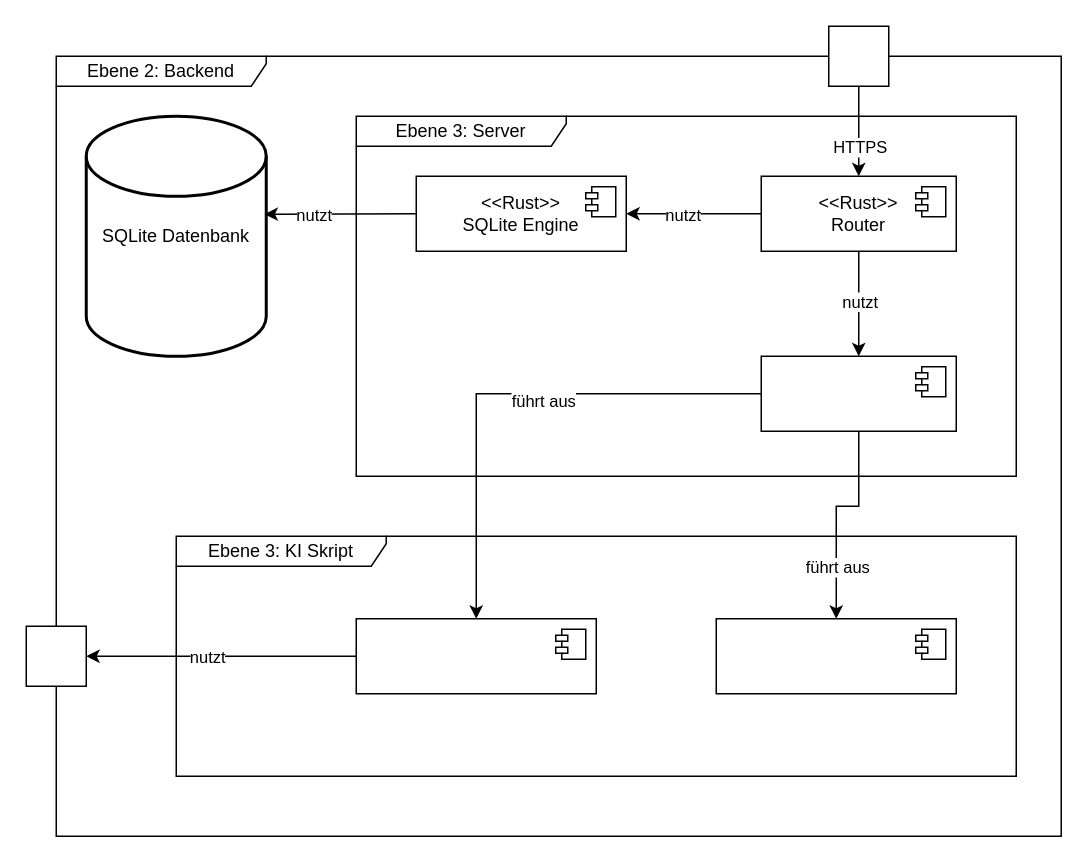
Image size: 1088x863. Some labels were removed from this diagram. The shapes that lost their labels are listed below. From the top down, each one's centre as x and y in pixels, then its label:
At (x=858, y=393): "<<Rust>> Python-Runner".
At (x=475, y=655): "<<Python>> KI-Runner".
At (x=835, y=655): "<<Python>> Kontext Generator".
